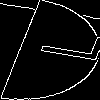L: (25, 25, 100, 63)
